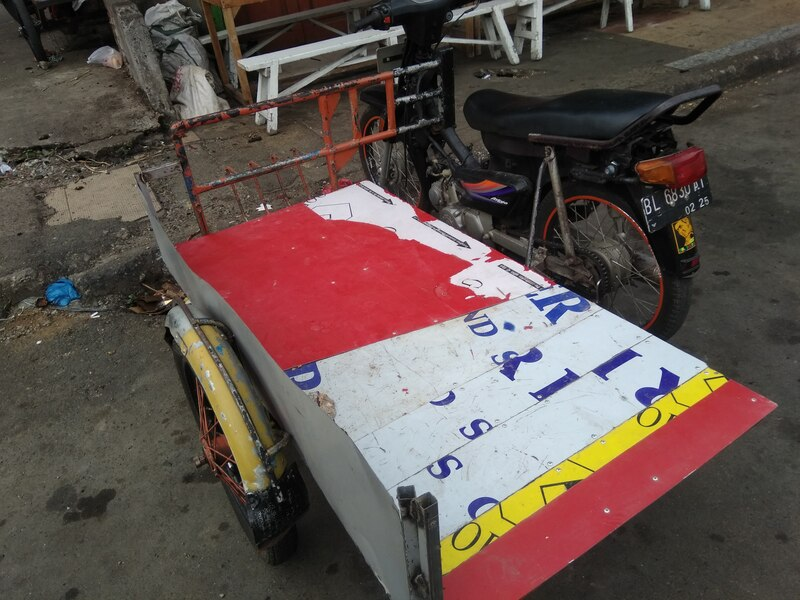becak barang: (120, 4, 784, 595)
